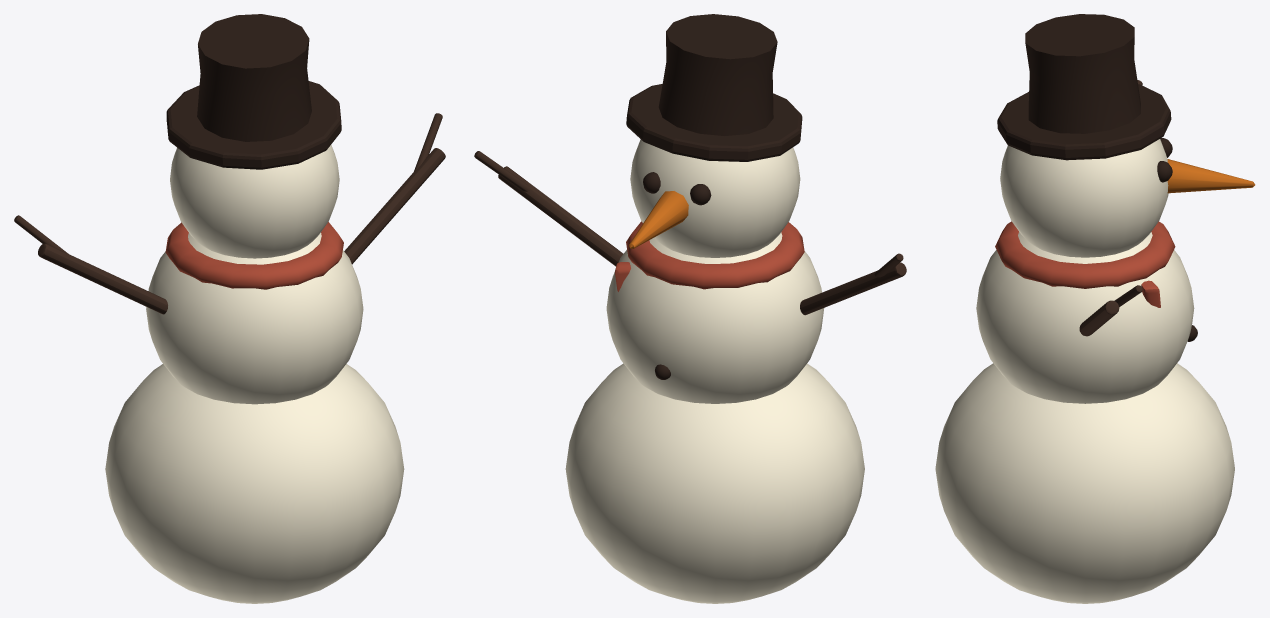
Rendered from prop_snowman.glb.
3 views of the same model, side by side, from view 1: azimuth 30°, elevation 25°; view 2: azimuth 150°, elevation 25°; view 3: azimuth 270°, elevation 25° (orthographic).
Visible parts, largest first — view 1: snowman_base, snowman_body, snowman_head, snowman_hat, snowman_hat_brim, snowman_scarf, snowman_arm_-1, snowman_arm_1; view 2: snowman_base, snowman_body, snowman_head, snowman_hat, snowman_hat_brim, snowman_scarf, snowman_arm_1, snowman_carrot, snowman_arm_-1; view 3: snowman_base, snowman_body, snowman_head, snowman_hat, snowman_hat_brim, snowman_scarf, snowman_carrot, snowman_arm_1.
Boxes of the visible parts, <box> form: snowman_base: <box>105,364,404,603</box>; snowman_body: <box>146,232,363,404</box>; snowman_head: <box>170,145,339,258</box>; snowman_hat: <box>197,14,311,141</box>; snowman_hat_brim: <box>166,81,341,169</box>; snowman_scarf: <box>165,222,343,289</box>; snowman_arm_-1: <box>38,243,167,314</box>; snowman_arm_1: <box>344,148,445,264</box>; snowman_base: <box>565,363,864,603</box>; snowman_body: <box>606,232,824,403</box>; snowman_head: <box>630,139,800,257</box>; snowman_hat: <box>658,14,777,135</box>; snowman_hat_brim: <box>626,84,802,161</box>; snowman_scarf: <box>626,221,804,289</box>; snowman_arm_1: <box>498,166,623,266</box>; snowman_carrot: <box>629,191,688,248</box>; snowman_arm_-1: <box>800,262,906,315</box>; snowman_base: <box>935,363,1234,603</box>; snowman_body: <box>976,232,1194,403</box>; snowman_head: <box>1000,139,1168,257</box>; snowman_hat: <box>1025,14,1140,133</box>; snowman_hat_brim: <box>997,84,1171,160</box>; snowman_scarf: <box>995,221,1175,288</box>; snowman_carrot: <box>1167,159,1255,193</box>; snowman_arm_1: <box>1079,300,1119,336</box>.
Size of the model in its own units: 1.45 by 1.8 by 0.94.
